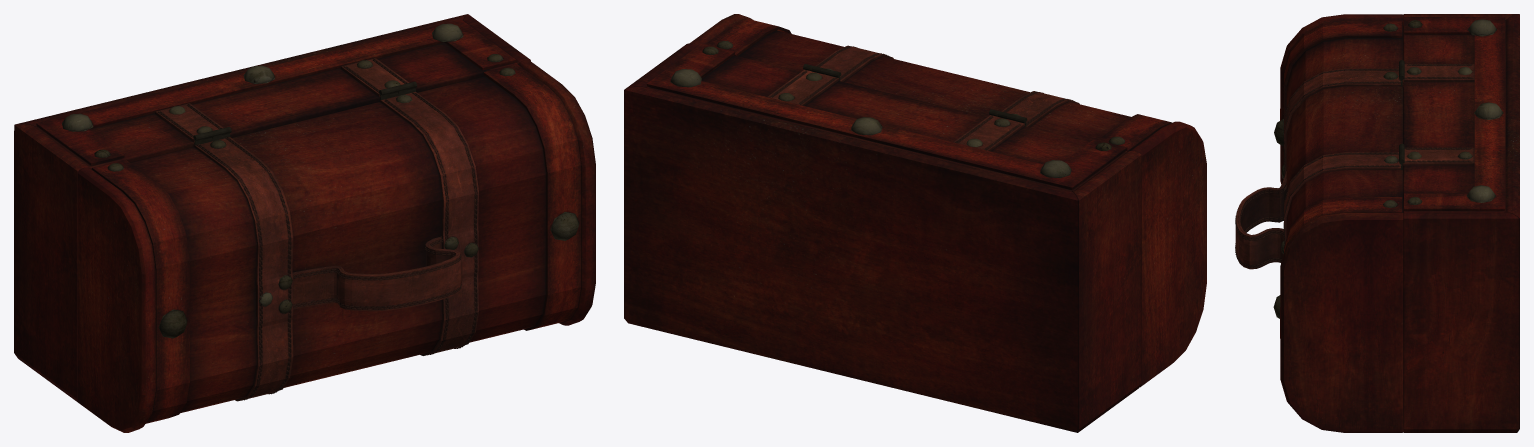
File: Decorative_Chest.obj
3 renders of one model, left to right at view 1: azimuth 30°, elevation 25°; view 2: azimuth 150°, elevation 25°; view 3: azimuth 270°, elevation 25°, orthographic. The views are drawn at different scales.
Visible parts, largest first — view 1: Decorative_Chest_Set40_pivot, Decorative_Chest_Set42_pivot, Decorative_Chest_Set39_pivot, Decorative_Chest_Set36_pivot, Decorative_Chest_Set41_pivot; view 2: Decorative_Chest_Set39_pivot, Decorative_Chest_Set40_pivot, Decorative_Chest_Set36_pivot, Decorative_Chest_Set42_pivot, Decorative_Chest_Set41_pivot; view 3: Decorative_Chest_Set40_pivot, Decorative_Chest_Set39_pivot, Decorative_Chest_Set42_pivot, Decorative_Chest_Set36_pivot, Decorative_Chest_Set41_pivot.
Boxes of the visible parts, <box> form: Decorative_Chest_Set40_pivot: <box>77,60,595,432</box>; Decorative_Chest_Set42_pivot: <box>92,64,581,423</box>; Decorative_Chest_Set39_pivot: <box>14,14,530,401</box>; Decorative_Chest_Set36_pivot: <box>36,19,516,165</box>; Decorative_Chest_Set41_pivot: <box>62,23,579,338</box>; Decorative_Chest_Set39_pivot: <box>624,43,1141,432</box>; Decorative_Chest_Set40_pivot: <box>690,14,1206,387</box>; Decorative_Chest_Set36_pivot: <box>646,43,1127,190</box>; Decorative_Chest_Set42_pivot: <box>705,18,1171,151</box>; Decorative_Chest_Set41_pivot: <box>670,40,1125,178</box>; Decorative_Chest_Set40_pivot: <box>1280,14,1403,432</box>; Decorative_Chest_Set39_pivot: <box>1403,14,1519,432</box>; Decorative_Chest_Set42_pivot: <box>1235,20,1403,269</box>; Decorative_Chest_Set36_pivot: <box>1403,17,1505,210</box>; Decorative_Chest_Set41_pivot: <box>1273,19,1503,318</box>.
Bounding box in the file's own units: 40 × 21.48 × 23.54.
Materials: 1 (1 with a texture image).
